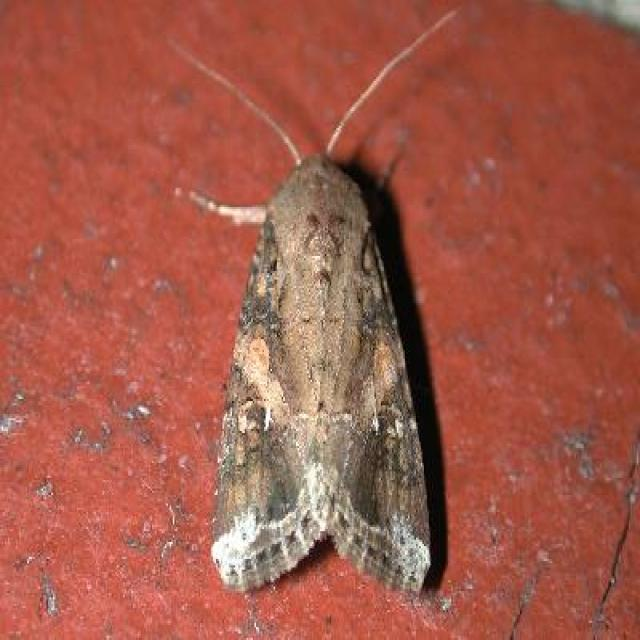BeetArmyWorm-Adult-: (149, 25, 503, 616)
